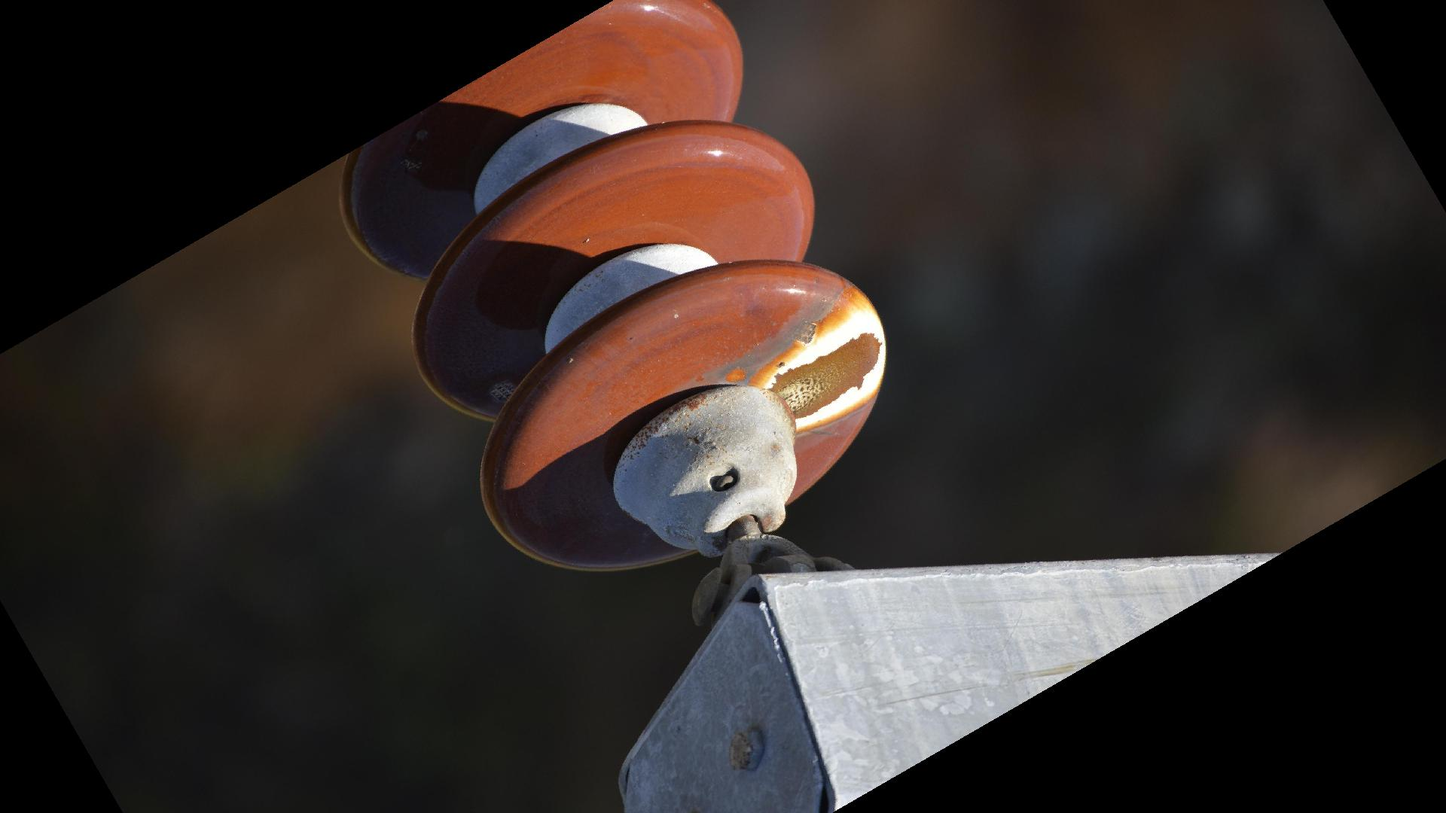insulator: (331, 1, 900, 580)
insulator_flashover: (767, 301, 888, 422)
